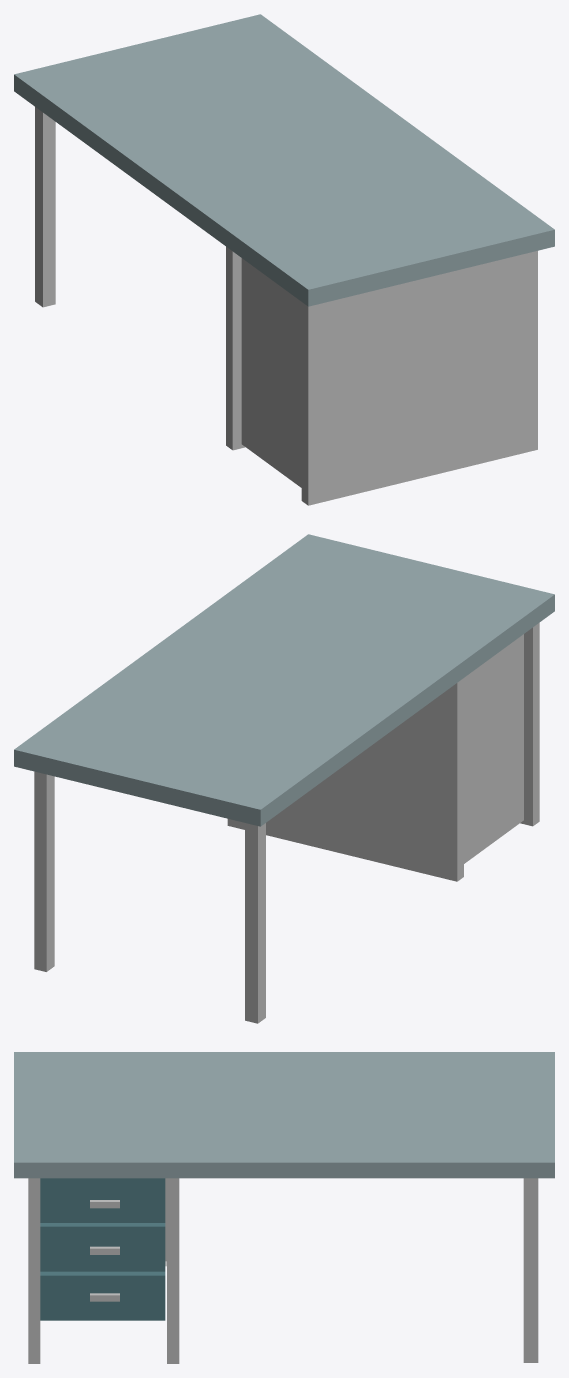
File: SM_Table_A2_Empty.fbx
3 views of the same model, one above another, from view 1: azimuth 30°, elevation 25°; view 2: azimuth 150°, elevation 25°; view 3: azimuth 270°, elevation 25° (orthographic). The views are drawn at different scales.
Visible parts, largest first — view 1: SM_Table_A2_Empty; view 2: SM_Table_A2_Empty; view 3: SM_Table_A2_Empty.
Part boxes in pixels (left/top/right/bottom): SM_Table_A2_Empty: left=14, top=14, right=554, bottom=505; SM_Table_A2_Empty: left=14, top=534, right=554, bottom=1023; SM_Table_A2_Empty: left=14, top=1052, right=554, bottom=1363.
Size of the model in its own units: 108 by 93.39 by 223.
1 material, 1 textured.
